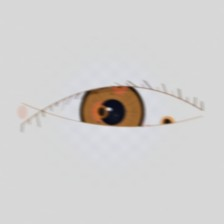foreign_body_visible: (143, 104, 191, 142)
